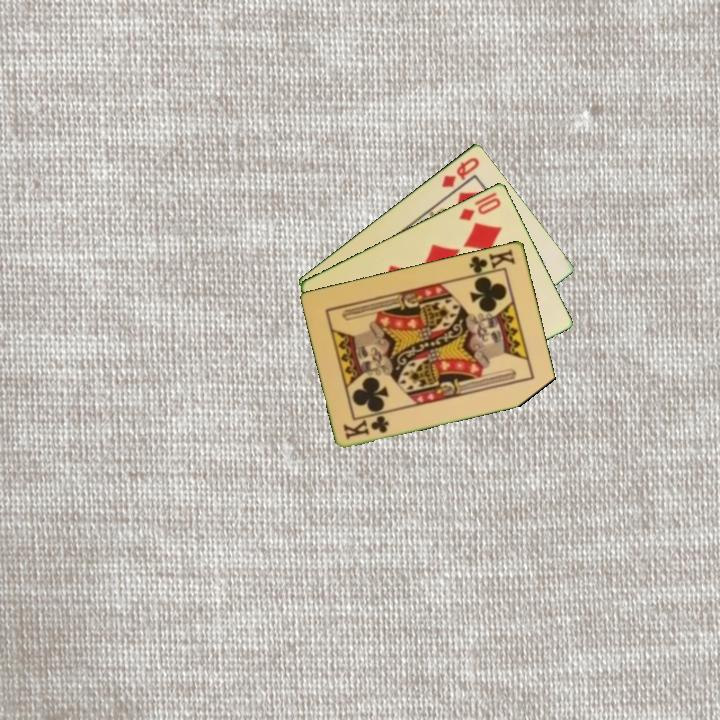10d: (456, 188, 504, 223)
Kc: (466, 245, 518, 279), (340, 412, 392, 442)
Qd: (438, 153, 482, 190)
